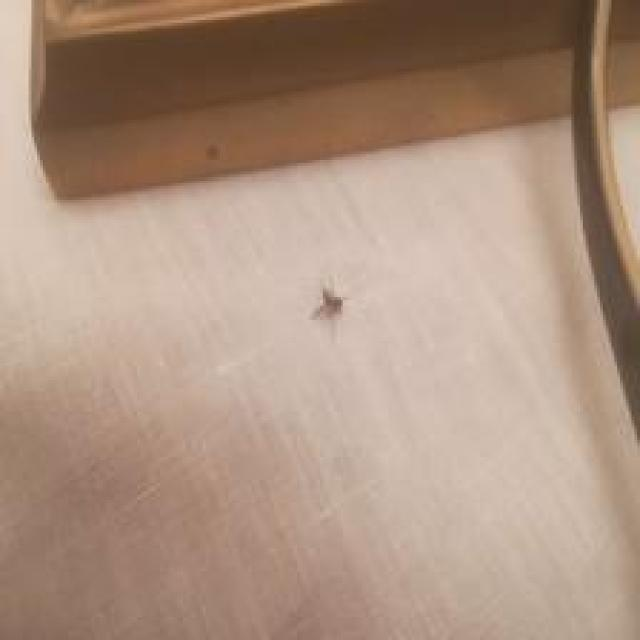Aedes albopictus: (310, 284, 347, 322)
